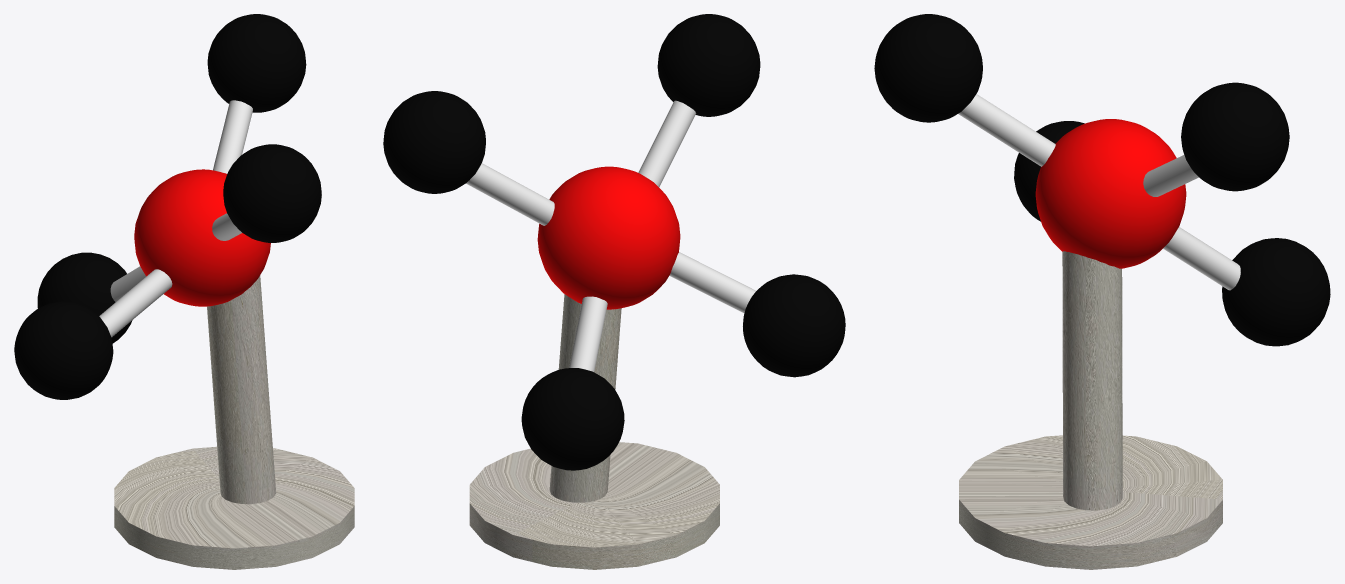
The model's file is CH4 Model Display.FBX.
3 renders of one model, left to right at view 1: azimuth 30°, elevation 25°; view 2: azimuth 150°, elevation 25°; view 3: azimuth 270°, elevation 25°, orthographic. The views are drawn at different scales.
Parts seen in each view (by area): view 1: Cylinder007, Sphere006, Cylinder005, Sphere008, Sphere005, Sphere007, Sphere009, Cylinder004, Cylinder003, Cylinder006, Cylinder002; view 2: Cylinder007, Sphere006, Sphere008, Sphere009, Sphere007, Sphere005, Cylinder005, Cylinder003, Cylinder004, Cylinder002, Cylinder006; view 3: Cylinder007, Sphere006, Cylinder005, Sphere007, Sphere005, Sphere009, Cylinder002, Cylinder006, Sphere008, Cylinder003.
Boxes of the visible parts, box(x1,y1,x2,y2) form: Cylinder007: box(114, 446, 354, 569); Sphere006: box(134, 169, 270, 306); Cylinder005: box(207, 275, 276, 504); Sphere008: box(14, 301, 113, 399); Sphere005: box(223, 144, 321, 242); Sphere007: box(207, 14, 306, 112); Sphere009: box(37, 252, 132, 343); Cylinder004: box(99, 269, 172, 337); Cylinder003: box(213, 100, 252, 173); Cylinder006: box(110, 266, 145, 301); Cylinder002: box(212, 213, 241, 240); Cylinder007: box(469, 442, 719, 569); Sphere006: box(537, 166, 680, 309); Sphere008: box(743, 274, 845, 377); Sphere009: box(521, 368, 624, 470); Sphere007: box(383, 91, 485, 193); Sphere005: box(657, 14, 760, 116); Cylinder005: box(549, 294, 621, 502); Cylinder003: box(466, 163, 554, 225); Cylinder004: box(669, 252, 755, 313); Cylinder002: box(638, 100, 696, 187); Cylinder006: box(569, 296, 607, 371); Cylinder007: box(959, 435, 1222, 569); Sphere006: box(1035, 119, 1186, 268); Cylinder005: box(1062, 251, 1122, 510); Sphere007: box(1181, 82, 1289, 191); Sphere005: box(874, 14, 982, 122); Sphere009: box(1222, 238, 1330, 346); Cylinder002: box(958, 94, 1055, 166); Cylinder006: box(1163, 227, 1240, 290); Sphere008: box(1014, 121, 1084, 221); Cylinder003: box(1143, 155, 1198, 196).
Size of the model in its own units: 2981 by 3473 by 3021.
3 materials, 3 textured.
